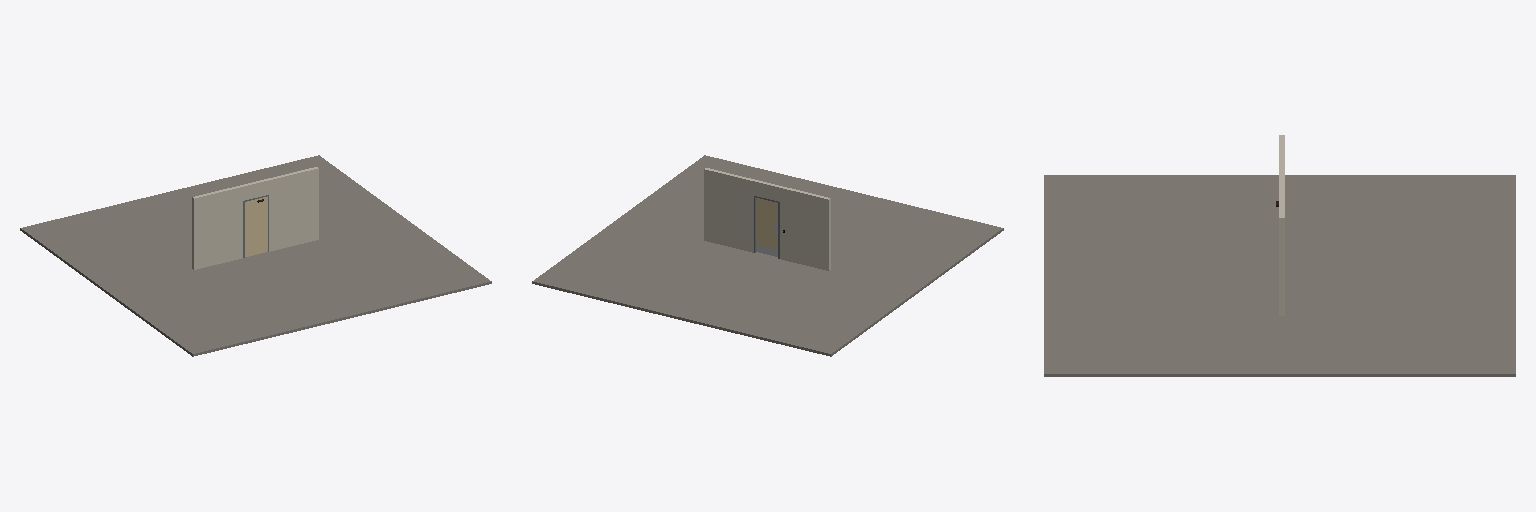
URDF robot description (db0539_swing_single_simple):
<?xml version="1.0" ?>
<robot xmlns:doorbench="https://github.com/adamraudonis/DoorBench/schema/urdf-ext" name="db0539_swing_single_simple">
  <link name="world_env">
    <visual name="floor_vis">
      <origin xyz="0 0 -0.05" rpy="0 0 0"/>
      <geometry>
        <box size="12 12 0.1"/>
      </geometry>
      <material name="mat_floor"/>
    </visual>
    <collision name="floor_col">
      <origin xyz="0 0 -0.05" rpy="0 0 0"/>
      <geometry>
        <box size="12 12 0.1"/>
      </geometry>
    </collision>
    <visual name="wall_left_vis">
      <origin xyz="-1.52025 0.0435 1.3735" rpy="0 0 0"/>
      <geometry>
        <box size="1.9595 0.145 2.747"/>
      </geometry>
      <material name="mat_wall"/>
    </visual>
    <collision name="wall_left_col">
      <origin xyz="-1.52025 0.0435 1.3735" rpy="0 0 0"/>
      <geometry>
        <box size="1.9595 0.145 2.747"/>
      </geometry>
    </collision>
    <visual name="wall_right_vis">
      <origin xyz="1.50525 0.0435 1.3735" rpy="0 0 0"/>
      <geometry>
        <box size="1.9895 0.145 2.747"/>
      </geometry>
      <material name="mat_wall"/>
    </visual>
    <collision name="wall_right_col">
      <origin xyz="1.50525 0.0435 1.3735" rpy="0 0 0"/>
      <geometry>
        <box size="1.9895 0.145 2.747"/>
      </geometry>
    </collision>
    <visual name="wall_header_vis">
      <origin xyz="-0.015 0.0435 2.487" rpy="0 0 0"/>
      <geometry>
        <box size="1.051 0.145 0.52"/>
      </geometry>
      <material name="mat_wall"/>
    </visual>
    <collision name="wall_header_col">
      <origin xyz="-0.015 0.0435 2.487" rpy="0 0 0"/>
      <geometry>
        <box size="1.051 0.145 0.52"/>
      </geometry>
    </collision>
    <visual name="hinge_0_jamb_vis">
      <origin xyz="0.4575 -0.029 0.259" rpy="3.141593 0 3.141593"/>
      <geometry>
        <mesh filename="../../hardware/hinge_jamb_e1d088f8dc.obj"/>
      </geometry>
      <material name="mat_hinge"/>
    </visual>
    <visual name="hinge_1_jamb_vis">
      <origin xyz="0.4575 -0.029 1.076" rpy="3.141593 0 3.141593"/>
      <geometry>
        <mesh filename="../../hardware/hinge_jamb_e1d088f8dc.obj"/>
      </geometry>
      <material name="mat_hinge"/>
    </visual>
    <visual name="hinge_2_jamb_vis">
      <origin xyz="0.4575 -0.029 1.963" rpy="3.141593 0 3.141593"/>
      <geometry>
        <mesh filename="../../hardware/hinge_jamb_e1d088f8dc.obj"/>
      </geometry>
      <material name="mat_hinge"/>
    </visual>
    <visual name="leaf_deadbolt_strike_b_vis">
      <origin xyz="-0.46 0 1.1615" rpy="1.570796 0 1.570796"/>
      <geometry>
        <box size="0.031 0.006 0.001"/>
      </geometry>
      <material name="mat_deadbolt"/>
    </visual>
    <visual name="leaf_deadbolt_strike_l_vis">
      <origin xyz="-0.46 -0.0125 1.18" rpy="1.570796 0 1.570796"/>
      <geometry>
        <box size="0.006 0.031 0.001"/>
      </geometry>
      <material name="mat_deadbolt"/>
    </visual>
    <visual name="leaf_deadbolt_strike_t_vis">
      <origin xyz="-0.46 0 1.1985" rpy="1.570796 0 1.570796"/>
      <geometry>
        <box size="0.031 0.006 0.001"/>
      </geometry>
      <material name="mat_deadbolt"/>
    </visual>
    <visual name="leaf_deadbolt_strike_r_vis">
      <origin xyz="-0.46 0.0125 1.18" rpy="1.570796 0 1.570796"/>
      <geometry>
        <box size="0.006 0.031 0.001"/>
      </geometry>
      <material name="mat_deadbolt"/>
    </visual>
    <visual name="jamb_hinge_vis">
      <origin xyz="0.4855 0.0435 1.0735" rpy="0 0 0"/>
      <geometry>
        <box size="0.05 0.145 2.147"/>
      </geometry>
      <material name="mat_frame"/>
    </visual>
    <collision name="jamb_hinge_col">
      <origin xyz="0.4855 0.0435 1.0735" rpy="0 0 0"/>
      <geometry>
        <box size="0.05 0.145 2.147"/>
      </geometry>
    </collision>
    <visual name="strike_1180_wall_n_vis">
      <origin xyz="-0.5005 0.06275 1.18" rpy="0 0 0"/>
      <geometry>
        <box size="0.08 0.1065 0.031"/>
      </geometry>
      <material name="mat_frame"/>
    </visual>
    <collision name="strike_1180_wall_n_col">
      <origin xyz="-0.5005 0.06275 1.18" rpy="0 0 0"/>
      <geometry>
        <box size="0.08 0.1065 0.031"/>
      </geometry>
    </collision>
    <visual name="strike_1180_wall_p_vis">
      <origin xyz="-0.5005 -0.01925 1.18" rpy="0 0 0"/>
      <geometry>
        <box size="0.08 0.0195 0.031"/>
      </geometry>
      <material name="mat_frame"/>
    </visual>
    <collision name="strike_1180_wall_p_col">
      <origin xyz="-0.5005 -0.01925 1.18" rpy="0 0 0"/>
      <geometry>
        <box size="0.08 0.0195 0.031"/>
      </geometry>
    </collision>
    <visual name="strike_1180_back_vis">
      <origin xyz="-0.5152 0 1.18" rpy="0 0 0"/>
      <geometry>
        <box size="0.0506 0.019 0.031"/>
      </geometry>
      <material name="mat_frame"/>
    </visual>
    <collision name="strike_1180_back_col">
      <origin xyz="-0.5152 0 1.18" rpy="0 0 0"/>
      <geometry>
        <box size="0.0506 0.019 0.031"/>
      </geometry>
    </collision>
    <visual name="jamb_strike_0_vis">
      <origin xyz="-0.5005 0.0435 0.58225" rpy="0 0 0"/>
      <geometry>
        <box size="0.08 0.145 1.1645"/>
      </geometry>
      <material name="mat_frame"/>
    </visual>
    <collision name="jamb_strike_0_col">
      <origin xyz="-0.5005 0.0435 0.58225" rpy="0 0 0"/>
      <geometry>
        <box size="0.08 0.145 1.1645"/>
      </geometry>
    </collision>
    <visual name="jamb_strike_1_vis">
      <origin xyz="-0.5005 0.0435 1.67125" rpy="0 0 0"/>
      <geometry>
        <box size="0.08 0.145 0.9515"/>
      </geometry>
      <material name="mat_frame"/>
    </visual>
    <collision name="jamb_strike_1_col">
      <origin xyz="-0.5005 0.0435 1.67125" rpy="0 0 0"/>
      <geometry>
        <box size="0.08 0.145 0.9515"/>
      </geometry>
    </collision>
    <visual name="jamb_head_vis">
      <origin xyz="-0.015 0.0435 2.172" rpy="0 0 0"/>
      <geometry>
        <box size="1.051 0.145 0.05"/>
      </geometry>
      <material name="mat_frame"/>
    </visual>
    <collision name="jamb_head_col">
      <origin xyz="-0.015 0.0435 2.172" rpy="0 0 0"/>
      <geometry>
        <box size="1.051 0.145 0.05"/>
      </geometry>
    </collision>
    <visual name="head_stud_vis">
      <origin xyz="-0.015 0.0435 2.212" rpy="0 0 0"/>
      <geometry>
        <box size="1.051 0.145 0.03"/>
      </geometry>
      <material name="mat_wall"/>
    </visual>
    <collision name="head_stud_col">
      <origin xyz="-0.015 0.0435 2.212" rpy="0 0 0"/>
      <geometry>
        <box size="1.051 0.145 0.03"/>
      </geometry>
    </collision>
    <visual name="stop_hinge_vis">
      <origin xyz="0.455 0.0385 1.0735" rpy="0 0 0"/>
      <geometry>
        <box size="0.011 0.032 2.147"/>
      </geometry>
      <material name="mat_frame"/>
    </visual>
    <collision name="stop_hinge_col">
      <origin xyz="0.455 0.0385 1.0735" rpy="0 0 0"/>
      <geometry>
        <box size="0.011 0.032 2.147"/>
      </geometry>
    </collision>
    <visual name="stop_strike_vis">
      <origin xyz="-0.455 0.0385 1.0735" rpy="0 0 0"/>
      <geometry>
        <box size="0.011 0.032 2.147"/>
      </geometry>
      <material name="mat_frame"/>
    </visual>
    <collision name="stop_strike_col">
      <origin xyz="-0.455 0.0385 1.0735" rpy="0 0 0"/>
      <geometry>
        <box size="0.011 0.032 2.147"/>
      </geometry>
    </collision>
    <visual name="stop_head_vis">
      <origin xyz="0 0.0385 2.1415" rpy="0 0 0"/>
      <geometry>
        <box size="0.921 0.032 0.011"/>
      </geometry>
      <material name="mat_frame"/>
    </visual>
    <collision name="stop_head_col">
      <origin xyz="0 0.0385 2.1415" rpy="0 0 0"/>
      <geometry>
        <box size="0.921 0.032 0.011"/>
      </geometry>
    </collision>
    <visual name="rex_plate_vis">
      <origin xyz="-0.7105 0.119 1.1" rpy="0 0 0"/>
      <geometry>
        <box size="0.08 0.006 0.12"/>
      </geometry>
      <material name="mat_wallreader"/>
    </visual>
  </link>
  <link name="leaf">
    <inertial>
      <origin xyz="-0.427648 0.020028 1.185289" rpy="0 0 0"/>
      <mass value="41.801718"/>
      <inertia ixx="20.421251672" ixy="0.065845562" ixz="-0.954458291" iyy="23.083753896" iyz="0.426271149" izz="2.729764103"/>
    </inertial>
    <visual name="leaf_slab_vis">
      <origin xyz="-0.457 0.029 1.076" rpy="0 0 0"/>
      <geometry>
        <box size="0.914 0.044 2.134"/>
      </geometry>
      <material name="mat_leaf"/>
    </visual>
    <collision name="leaf_slab_col">
      <origin xyz="-0.457 0.029 1.076" rpy="0 0 0"/>
      <geometry>
        <box size="0.914 0.044 2.134"/>
      </geometry>
    </collision>
    <visual name="hinge_0_vis">
      <origin xyz="0 0 0.259" rpy="3.141593 0 3.141593"/>
      <geometry>
        <mesh filename="../../hardware/hinge_e22b26c0c1.obj"/>
      </geometry>
      <material name="mat_hinge"/>
    </visual>
    <visual name="hinge_1_vis">
      <origin xyz="0 0 1.076" rpy="3.141593 0 3.141593"/>
      <geometry>
        <mesh filename="../../hardware/hinge_e22b26c0c1.obj"/>
      </geometry>
      <material name="mat_hinge"/>
    </visual>
    <visual name="hinge_2_vis">
      <origin xyz="0 0 1.963" rpy="3.141593 0 3.141593"/>
      <geometry>
        <mesh filename="../../hardware/hinge_e22b26c0c1.obj"/>
      </geometry>
      <material name="mat_hinge"/>
    </visual>
    <visual name="leaf_push_plate_p_vis">
      <origin xyz="-0.809 0.0518 1.04" rpy="0 0 0"/>
      <geometry>
        <box size="0.1 0.0016 0.4"/>
      </geometry>
      <material name="mat_op_stainless"/>
    </visual>
    <visual name="leaf_deadbolt_faceplate_vis">
      <origin xyz="-0.9134 0.029 1.18" rpy="0 0 0"/>
      <geometry>
        <box size="0.0012 0.028 0.049"/>
      </geometry>
      <material name="mat_deadbolt"/>
    </visual>
    <visual name="closer_body_vis">
      <origin xyz="-0.297 0.007 2.054" rpy="-1.570796 0 3.141593"/>
      <geometry>
        <mesh filename="../../hardware/closer_body_b226fdb10b.obj"/>
      </geometry>
      <material name="mat_closer"/>
    </visual>
    <collision name="closer_body_col_col">
      <origin xyz="-0.297 -0.033 2.054" rpy="0 0 0"/>
      <geometry>
        <box size="0.24 0.08 0.06"/>
      </geometry>
    </collision>
    <visual name="kick_plate_p_vis">
      <origin xyz="-0.457 0.0518 0.144" rpy="0 0 0"/>
      <geometry>
        <box size="0.854 0.0016 0.25"/>
      </geometry>
      <material name="mat_kick"/>
    </visual>
  </link>
  <link name="leaf_deadbolt">
    <inertial>
      <origin xyz="0.0023 0 0" rpy="0 0 0"/>
      <mass value="0.18836"/>
      <inertia ixx="0.000013829" ixy="0" ixz="0" iyy="0.000057986" iyz="0" izz="0.000052194"/>
    </inertial>
    <visual name="leaf_deadbolt_box_vis">
      <origin xyz="0.0023 0 0" rpy="0 0 0"/>
      <geometry>
        <box size="0.0554 0.016 0.025"/>
      </geometry>
      <material name="mat_deadbolt"/>
    </visual>
    <collision name="leaf_deadbolt_box_col">
      <origin xyz="0.0023 0 0" rpy="0 0 0"/>
      <geometry>
        <box size="0.0554 0.016 0.025"/>
      </geometry>
    </collision>
  </link>
  <link name="rex_button">
    <inertial>
      <origin xyz="0 0.004 0" rpy="0 0 0"/>
      <mass value="0.010053"/>
      <inertia ixx="0.000001059" ixy="0" ixz="0" iyy="0.000002011" iyz="0" izz="0.000001059"/>
    </inertial>
    <visual name="rex_button_geom_vis">
      <origin xyz="0 0.004 0" rpy="-1.570796 0 0"/>
      <geometry>
        <cylinder radius="0.02" length="0.008"/>
      </geometry>
      <material name="mat_rex"/>
    </visual>
    <collision name="rex_button_geom_col">
      <origin xyz="0 0.004 0" rpy="-1.570796 0 0"/>
      <geometry>
        <cylinder radius="0.02" length="0.008"/>
      </geometry>
    </collision>
  </link>
  <joint name="leaf_hinge" type="revolute">
    <origin xyz="0.4575 -0.029 0" rpy="0 0 0"/>
    <parent link="world_env"/>
    <child link="leaf"/>
    <axis xyz="0 0 1"/>
    <limit lower="0" upper="1.570796" effort="2000" velocity="10"/>
    <dynamics damping="10.268966" friction="0.652348"/>
    <doorbench:spring stiffness="11.911156" springref="-1.783202" note="tau = -stiffness*(q - springref); not native URDF"/>
    <doorbench:closer damping_closing="70" damping_opening="10" backcheck_angle="1.31" backcheck_damping="45"/>
  </joint>
  <joint name="leaf_deadbolt_fixed" type="fixed">
    <origin xyz="-0.914 0.029 1.18" rpy="0 0 0"/>
    <parent link="leaf"/>
    <child link="leaf_deadbolt"/>
  </joint>
  <joint name="rex_button_slide" type="prismatic">
    <origin xyz="-0.7105 0.122 1.1" rpy="0 0 0"/>
    <parent link="world_env"/>
    <child link="rex_button"/>
    <axis xyz="0 -1 0"/>
    <limit lower="0" upper="0.004" effort="5000" velocity="10"/>
    <dynamics damping="1" friction="0"/>
    <doorbench:spring stiffness="1500" springref="-0.004" note="tau = -stiffness*(q - springref); not native URDF"/>
  </joint>
  <material name="mat_closer">
    <color rgba="0.22 0.17 0.13 1"/>
  </material>
  <material name="mat_deadbolt">
    <color rgba="0.85 0.66 0.3 1"/>
  </material>
  <material name="mat_floor">
    <color rgba="0.55 0.53 0.5 1"/>
  </material>
  <material name="mat_frame">
    <color rgba="0.45 0.48 0.52 1"/>
  </material>
  <material name="mat_hinge">
    <color rgba="0.65 0.66 0.68 1"/>
  </material>
  <material name="mat_kick">
    <color rgba="0.75 0.76 0.77 1"/>
  </material>
  <material name="mat_leaf">
    <color rgba="0.82 0.75 0.62 1"/>
  </material>
  <material name="mat_op_stainless">
    <color rgba="0.75 0.76 0.77 1"/>
  </material>
  <material name="mat_rex">
    <color rgba="0.1 0.6 0.2 1"/>
  </material>
  <material name="mat_wall">
    <color rgba="0.78 0.76 0.7 1"/>
  </material>
  <material name="mat_wallreader">
    <color rgba="0.05 0.05 0.05 1"/>
  </material>
</robot>

--- Facts derived from the render (not from the file) ---
The picture shows the robot from 3 angles, left to right: view 1: azimuth 30°, elevation 25°; view 2: azimuth 150°, elevation 25°; view 3: azimuth 270°, elevation 25°; orthographic projection.
Robot: db0539_swing_single_simple — 4 links, 3 joints (1 revolute, 1 prismatic, 1 fixed); root link world_env; default pose: all joints at 0.
Links seen in each view (by area): view 1: world_env, leaf; view 2: world_env, leaf; view 3: world_env.
Link boxes in pixels (bbox=[...]): world_env: bbox=[20, 155, 491, 356]; leaf: bbox=[245, 196, 267, 256]; world_env: bbox=[532, 155, 1003, 356]; leaf: bbox=[756, 198, 777, 256]; world_env: bbox=[1044, 135, 1515, 376].
Size in the robot's own frame: 12 by 12 by 2.85 metres.
Meshes: 3 distinct files referenced, 7 mesh visuals loaded (3 OBJ).
